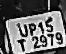1: (36, 20, 45, 35)
2: (30, 36, 40, 51)
5: (44, 17, 54, 33)
7: (47, 31, 56, 46)
9: (53, 31, 65, 45), (39, 34, 50, 49)
P: (27, 22, 39, 36)
T: (15, 37, 28, 52)
U: (15, 21, 30, 38)
